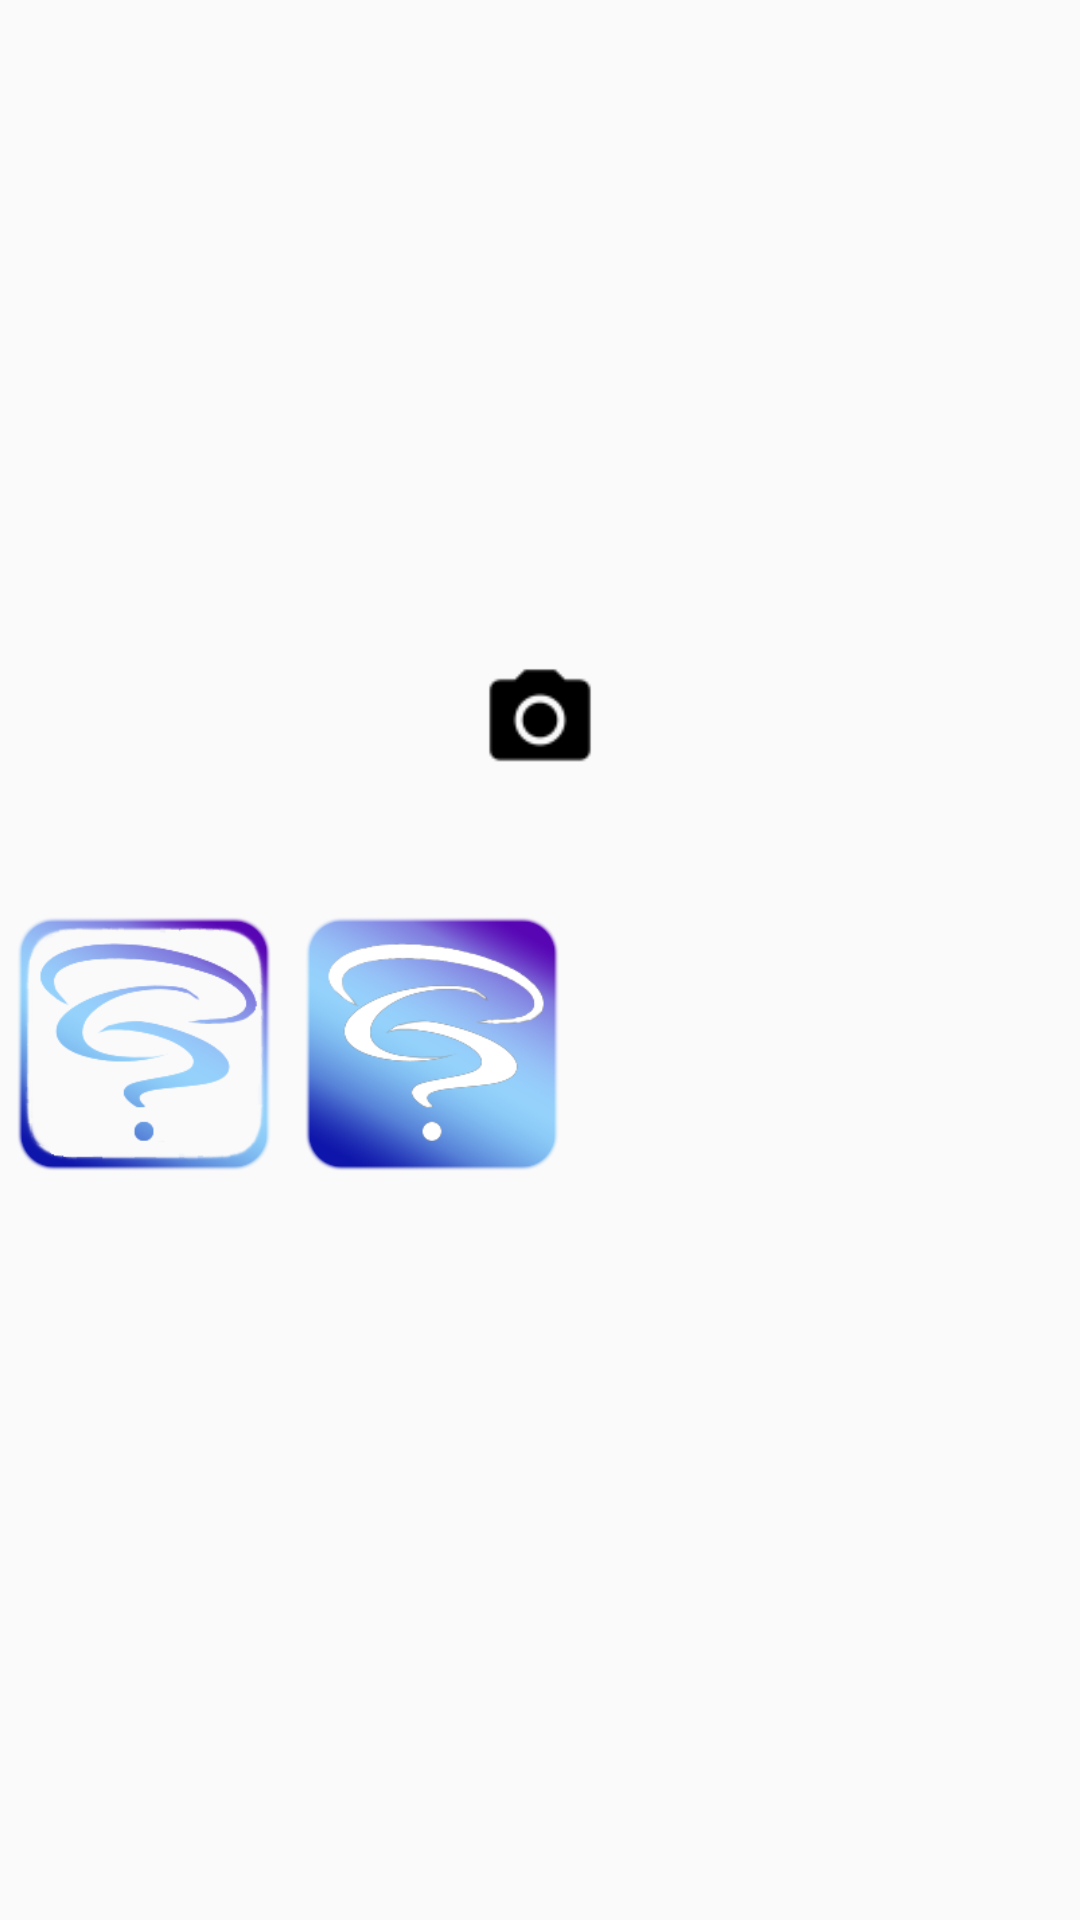

Icon click points for this 1080w x 1920h phone screenshot, format point (x, y):
camera: point (540, 715)
